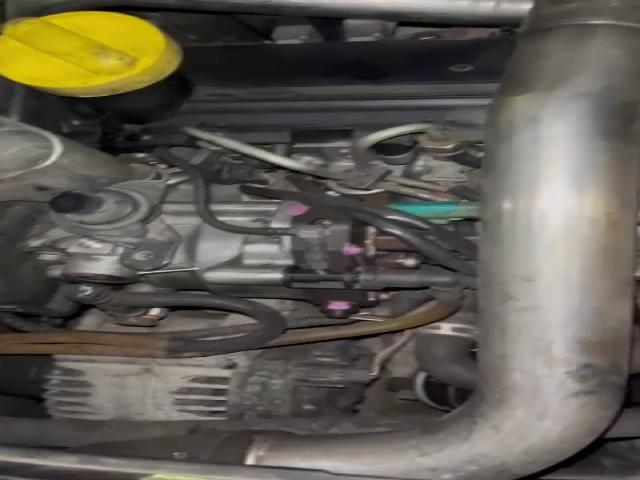alternator: (46, 340, 383, 420)
high_pressure_pump: (28, 195, 415, 319)
